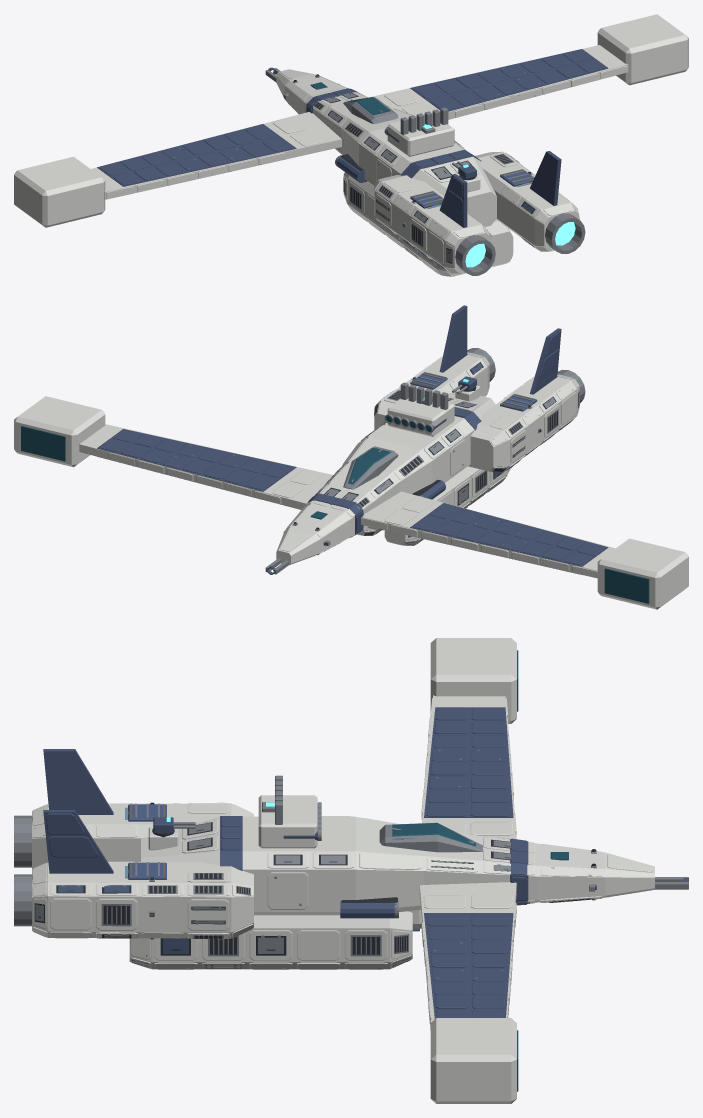
The model's file is earth_recon_t5.glb.
3 views of the same model, one above another, from view 1: azimuth 30°, elevation 25°; view 2: azimuth 150°, elevation 25°; view 3: azimuth 270°, elevation 25° (orthographic). The views are drawn at different scales.
Visible parts, largest first — view 1: FleetHull; view 2: FleetHull; view 3: FleetHull.
Part boxes in pixels (<box>): FleetHull: <box>14,14,688,276</box>; FleetHull: <box>14,305,688,609</box>; FleetHull: <box>14,638,688,1103</box>.
Bounding box in the file's own units: 44 × 8.29 × 29.8.
